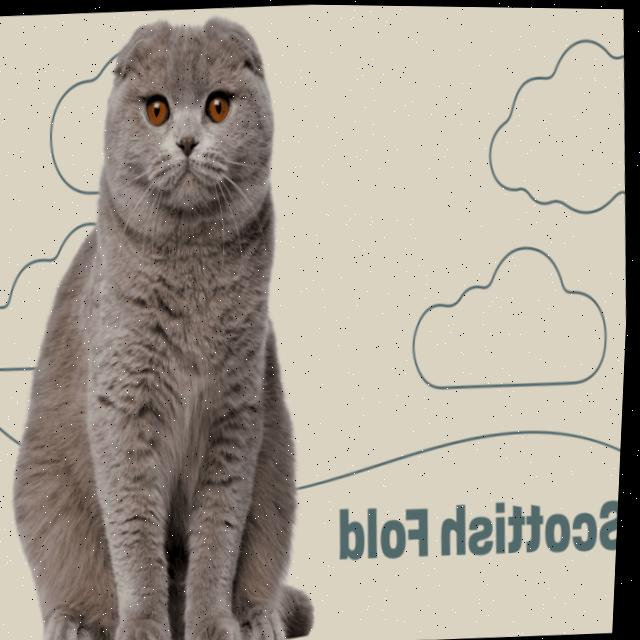Scottish Fold: (0, 3, 347, 640)
